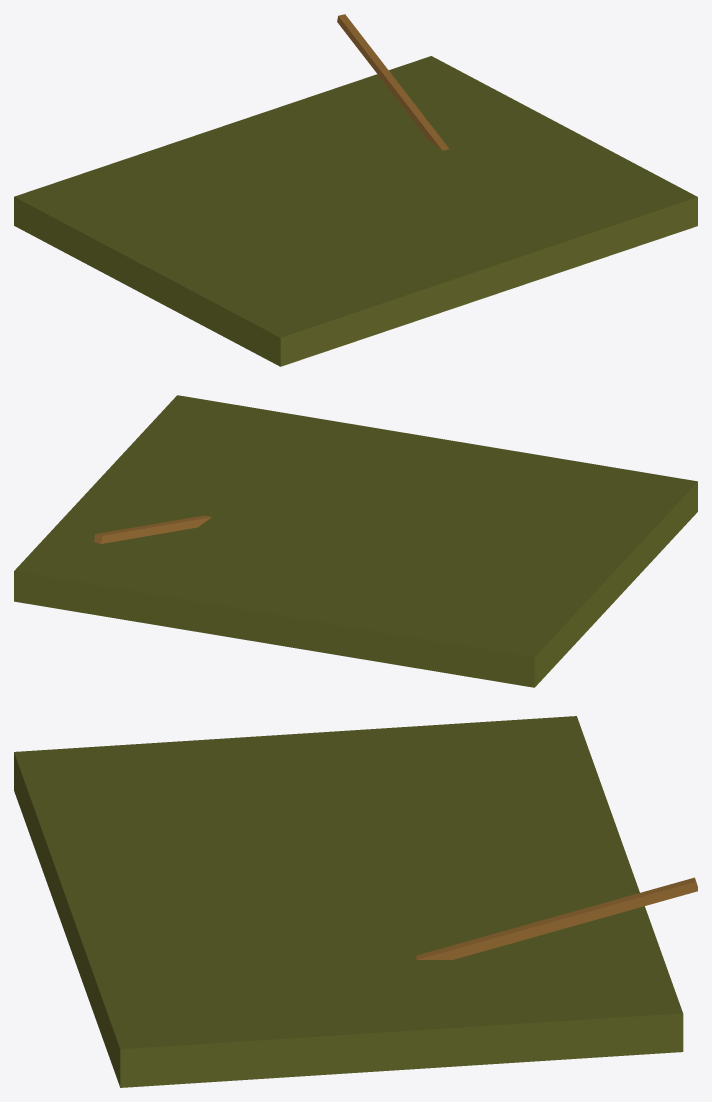
File: SM_Tienda_v4_Caida_LOD0.fbx
The picture shows the model from 3 angles, top to bottom: view 1: azimuth 30°, elevation 25°; view 2: azimuth 150°, elevation 25°; view 3: azimuth 270°, elevation 25°; orthographic projection. The views are drawn at different scales.
Parts seen in each view (by area): view 1: SM_vida_fuerte_v19_LOD0; view 2: SM_vida_fuerte_v19_LOD0; view 3: SM_vida_fuerte_v19_LOD0.
Part boxes in pixels (x1,y1,x2,y2): SM_vida_fuerte_v19_LOD0: (14, 14, 697, 366); SM_vida_fuerte_v19_LOD0: (14, 395, 697, 687); SM_vida_fuerte_v19_LOD0: (14, 716, 697, 1087).
Bounding box in the file's own units: 4.43 × 0.7242 × 3.85.
